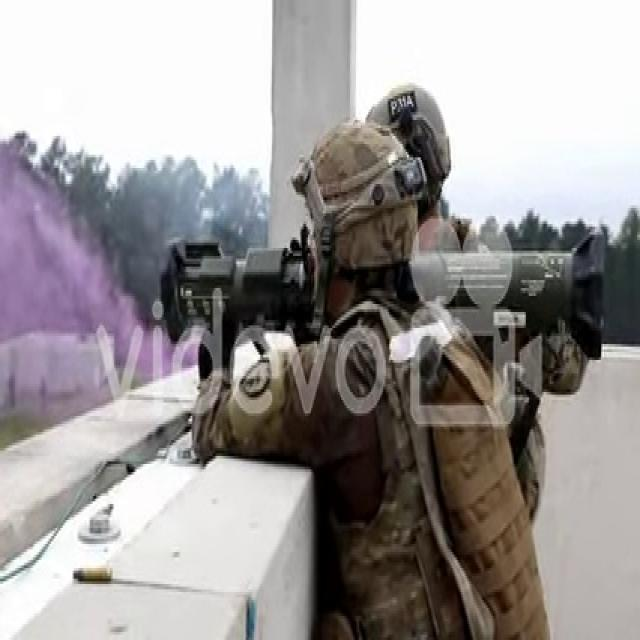bazooka: (158, 224, 617, 375)
